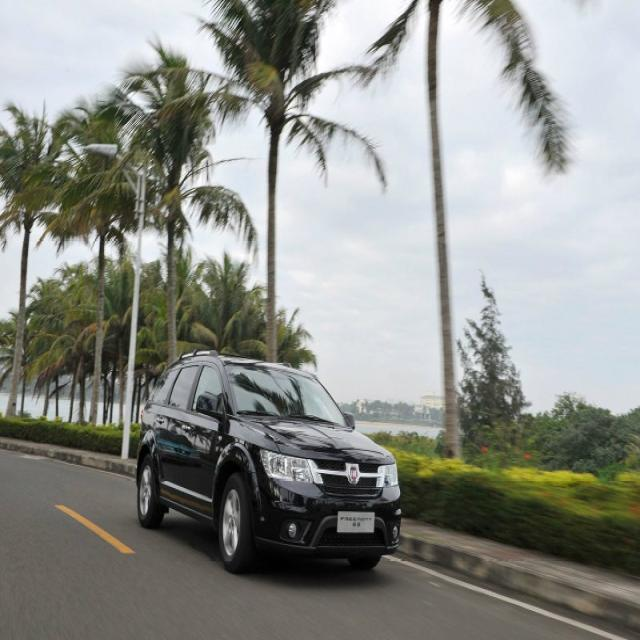front_bumper: (244, 470, 402, 556)
front_glass: (224, 363, 350, 429)
front_left_side_light: (374, 460, 398, 488)
front_left_side_mirror: (342, 409, 357, 432)
front_right_side_door: (177, 358, 229, 522)
front_right_side_light: (258, 445, 314, 485)
front_right_side_mirror: (196, 393, 224, 419)
wheel: (218, 472, 258, 573), (138, 454, 164, 528)
